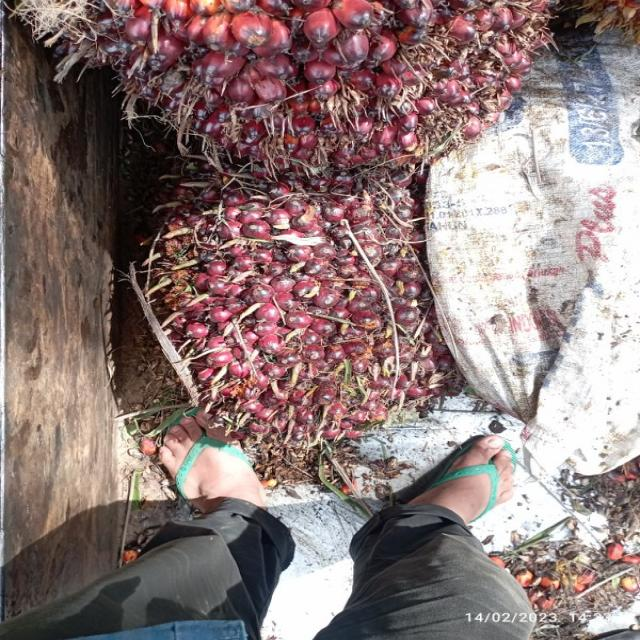fraksi 1: (120, 146, 538, 514)
